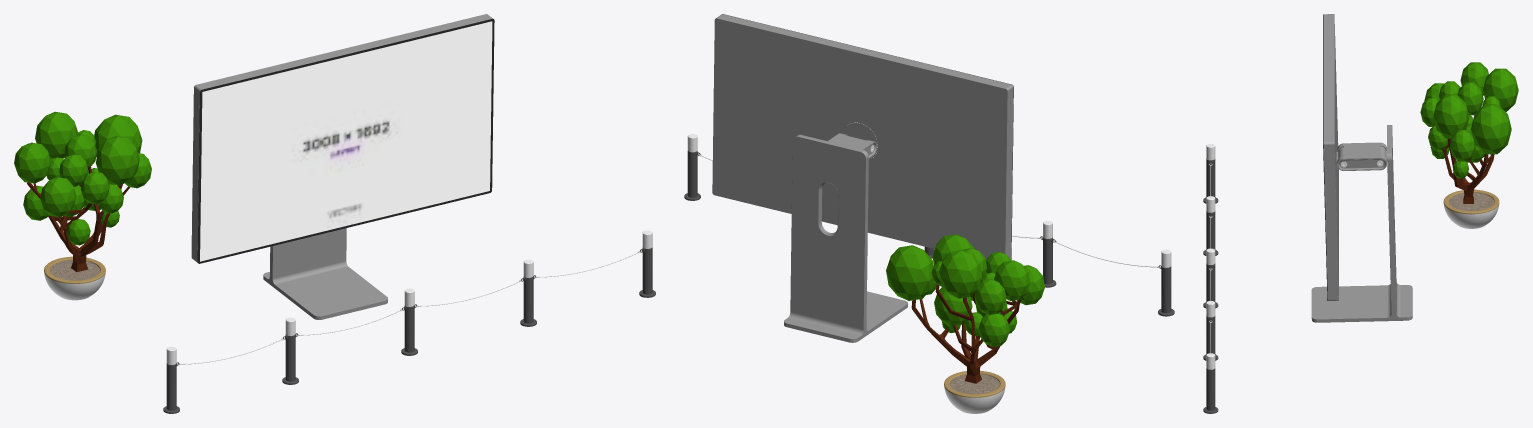
The model's file is VideoScreen.glb.
3 views of the same model, side by side, from view 1: azimuth 30°, elevation 25°; view 2: azimuth 150°, elevation 25°; view 3: azimuth 270°, elevation 25° (orthographic). The views are drawn at different scales.
Visible parts, largest first — view 1: Screen, tree crown, 1000$ Stand, Display Body, bollards, Black Frame, trunk and branches, caps, pot, soil, cable; view 2: Display Body, 1000$ Stand, tree crown, trunk and branches, bollards, Joint, pot, soil, caps, wooden rim; view 3: tree crown, 1000$ Stand, Display Body, bollards, Joint, trunk and branches, caps, pot, soil, wooden rim, Black Frame.
Boxes of the visible parts, x1=… form: Screen: x1=200, y1=21, x2=492, y2=261; tree crown: x1=14, y1=111, x2=151, y2=245; 1000$ Stand: x1=263, y1=228, x2=387, y2=319; Display Body: x1=191, y1=14, x2=492, y2=262; bollards: x1=163, y1=247, x2=655, y2=413; Black Frame: x1=197, y1=18, x2=494, y2=263; trunk and branches: x1=27, y1=166, x2=129, y2=271; caps: x1=166, y1=230, x2=652, y2=364; pot: x1=44, y1=273, x2=105, y2=300; soil: x1=49, y1=260, x2=99, y2=280; cable: x1=177, y1=250, x2=641, y2=364; Display Body: x1=712, y1=14, x2=1013, y2=260; 1000$ Stand: x1=784, y1=134, x2=907, y2=342; tree crown: x1=886, y1=234, x2=1044, y2=346; trunk and branches: x1=911, y1=284, x2=1021, y2=383; bollards: x1=684, y1=151, x2=1174, y2=316; Joint: x1=828, y1=122, x2=877, y2=159; pot: x1=944, y1=386, x2=1005, y2=413; soil: x1=949, y1=374, x2=999, y2=394; caps: x1=687, y1=134, x2=1171, y2=267; wooden rim: x1=944, y1=370, x2=1005, y2=397; tree crown: x1=1420, y1=62, x2=1518, y2=178; 1000$ Stand: x1=1311, y1=125, x2=1412, y2=322; Display Body: x1=1323, y1=14, x2=1338, y2=300; bollards: x1=1203, y1=159, x2=1218, y2=413; Joint: x1=1336, y1=142, x2=1387, y2=175; trunk and branches: x1=1442, y1=138, x2=1494, y2=203; caps: x1=1206, y1=143, x2=1215, y2=369; pot: x1=1444, y1=204, x2=1499, y2=228; soil: x1=1449, y1=192, x2=1494, y2=210; wooden rim: x1=1443, y1=189, x2=1499, y2=214; Black Frame: x1=1323, y1=14, x2=1327, y2=300.
Bounding box in the file's own units: 0.8551 × 0.4228 × 0.5279.
Materials: 13 (4 with a texture image).
